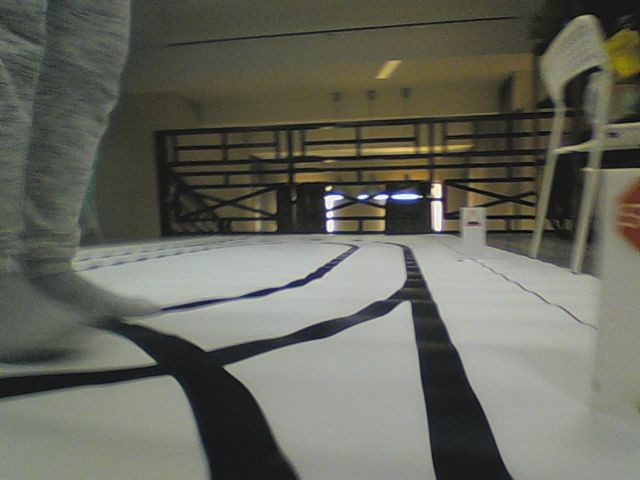Nerov: (465, 209, 481, 226)
